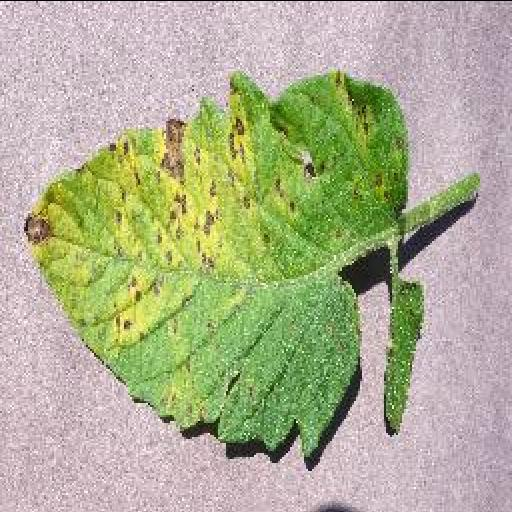disease_tomato: (21, 72, 407, 465)
